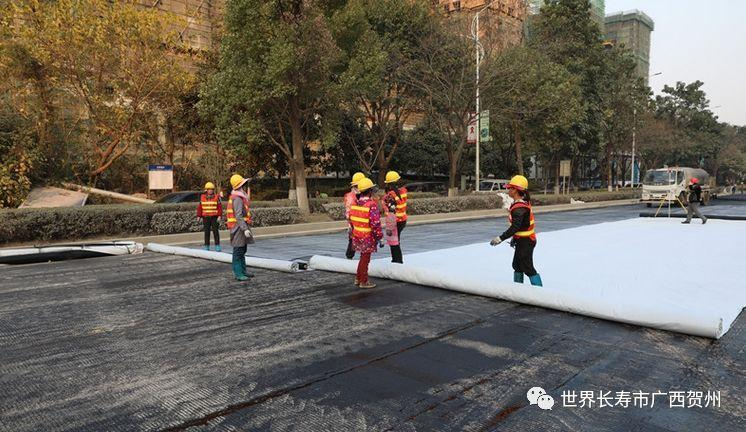helmet: (351, 174, 373, 192), (510, 176, 530, 190), (387, 171, 403, 185), (231, 175, 246, 189), (205, 183, 221, 191), (691, 177, 701, 189)
